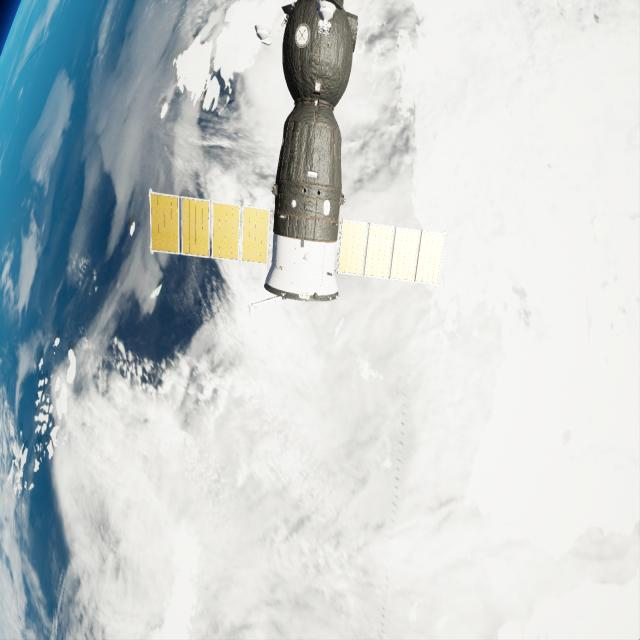Satellites revolving around earth: (146, 1, 448, 311)
